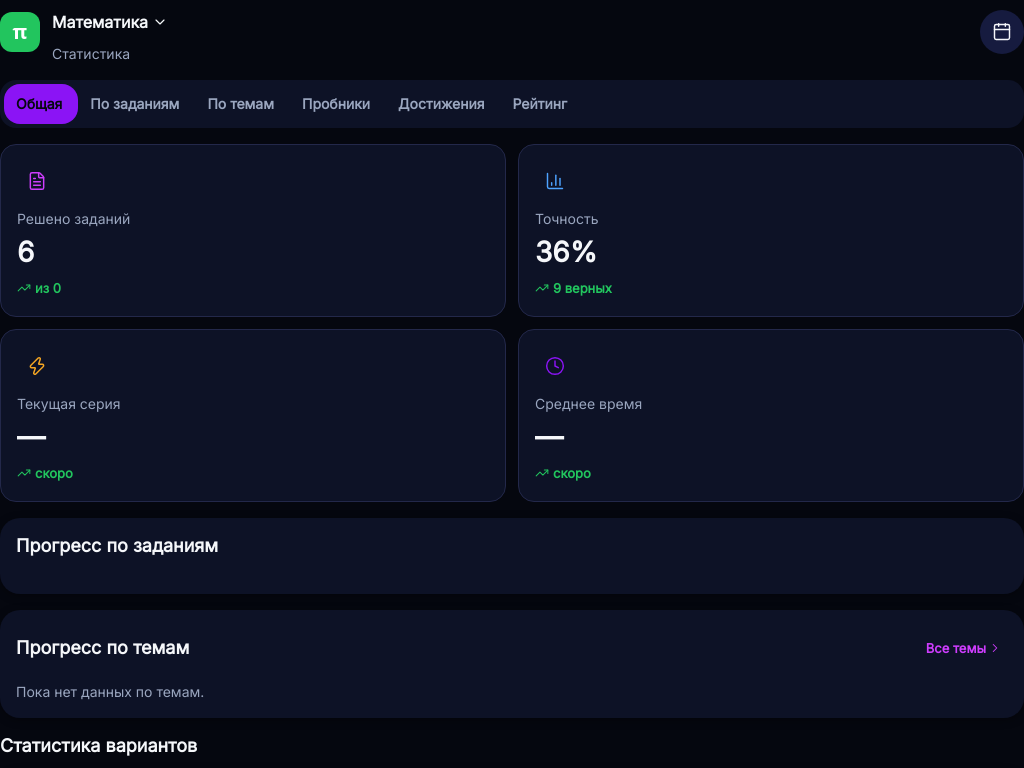
Test: StatisticsMobile — subject filter › opens a real subject picker from the header and refilters every real metric
Expected: the text "9 верных" is shown, [535,280,612,296]
Click the button "Математика" at [100, 22], box [52,0,968,44]
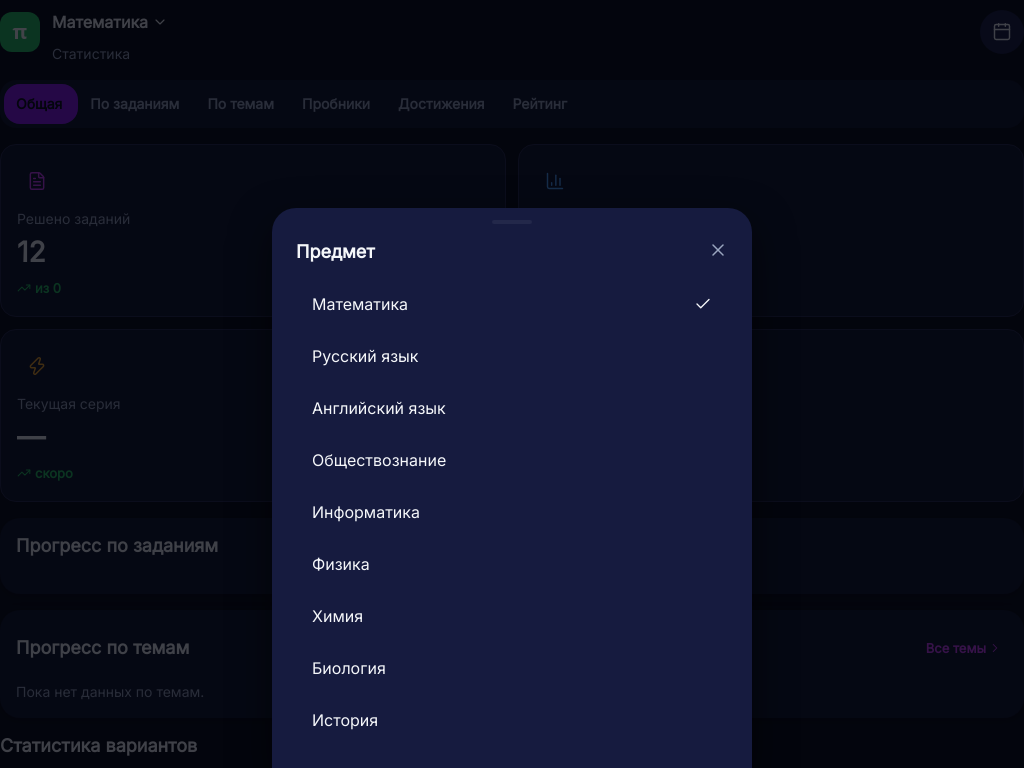
Click the option "Русский язык" at [365, 356], box [296,332,728,380]
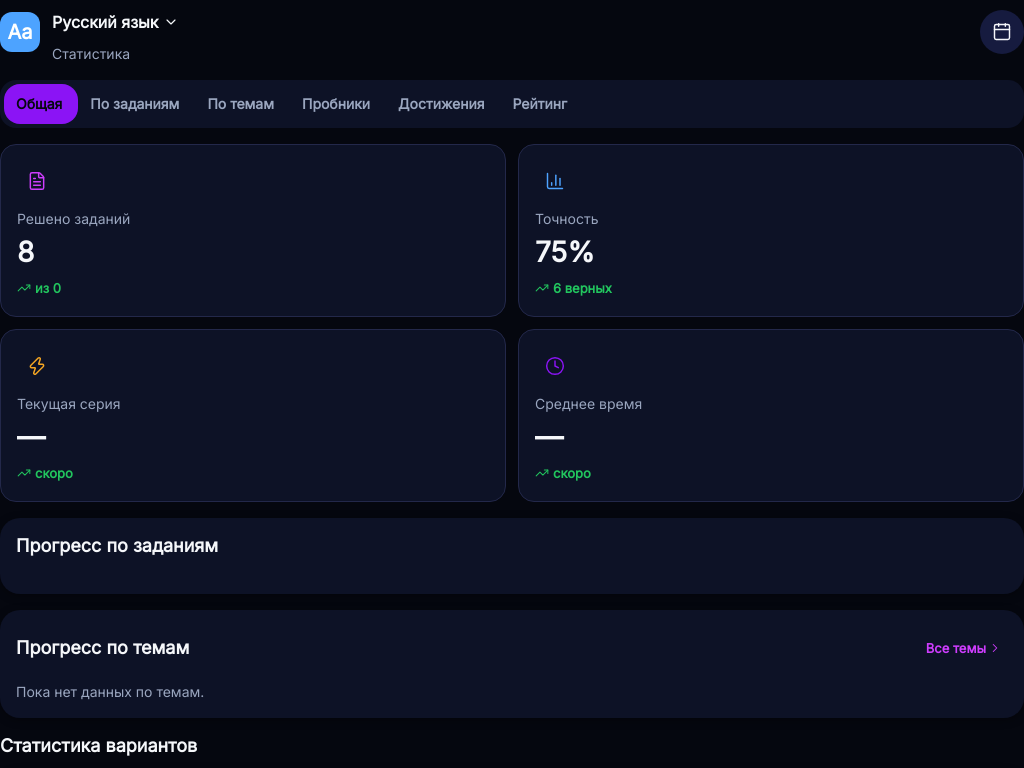
Expected: the text "6 верных" is shown, [535,280,612,296]
